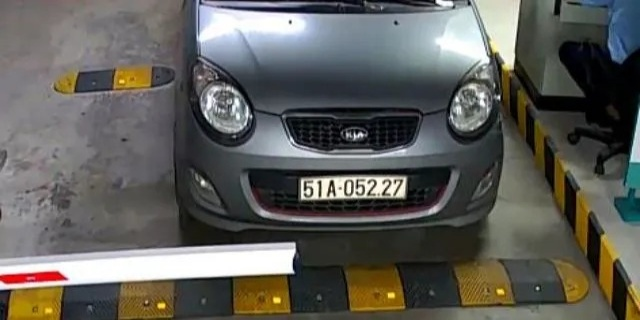bien_so: (300, 175, 407, 201)
